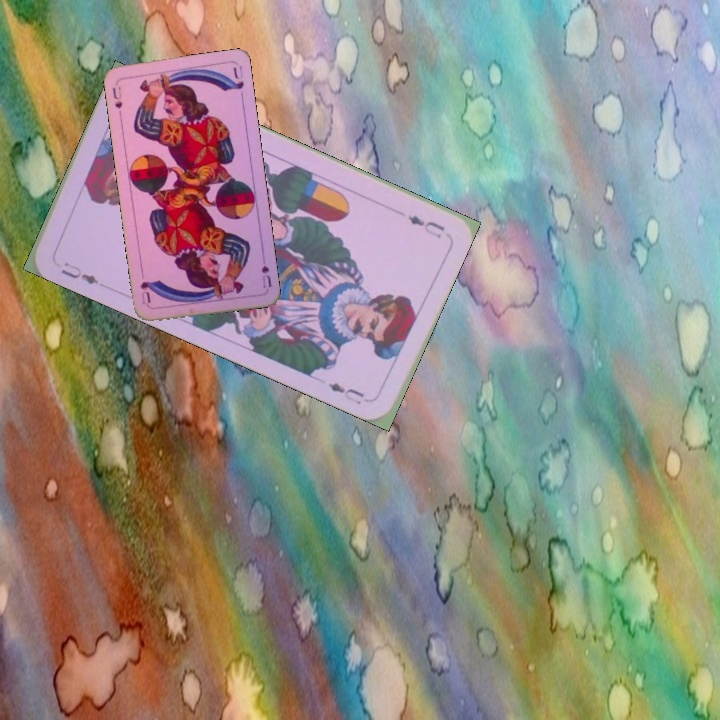EU: (404, 211, 448, 241), (57, 258, 101, 287)
SU: (257, 250, 274, 290), (108, 82, 125, 120)
